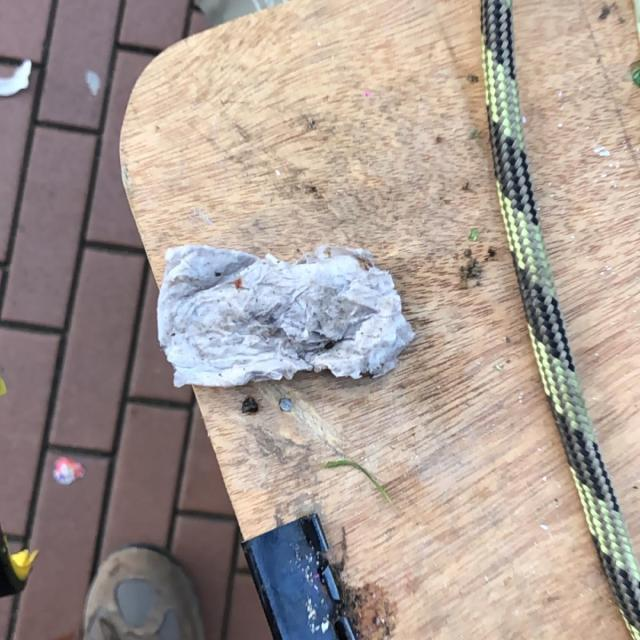Paper: (156, 242, 417, 390)
